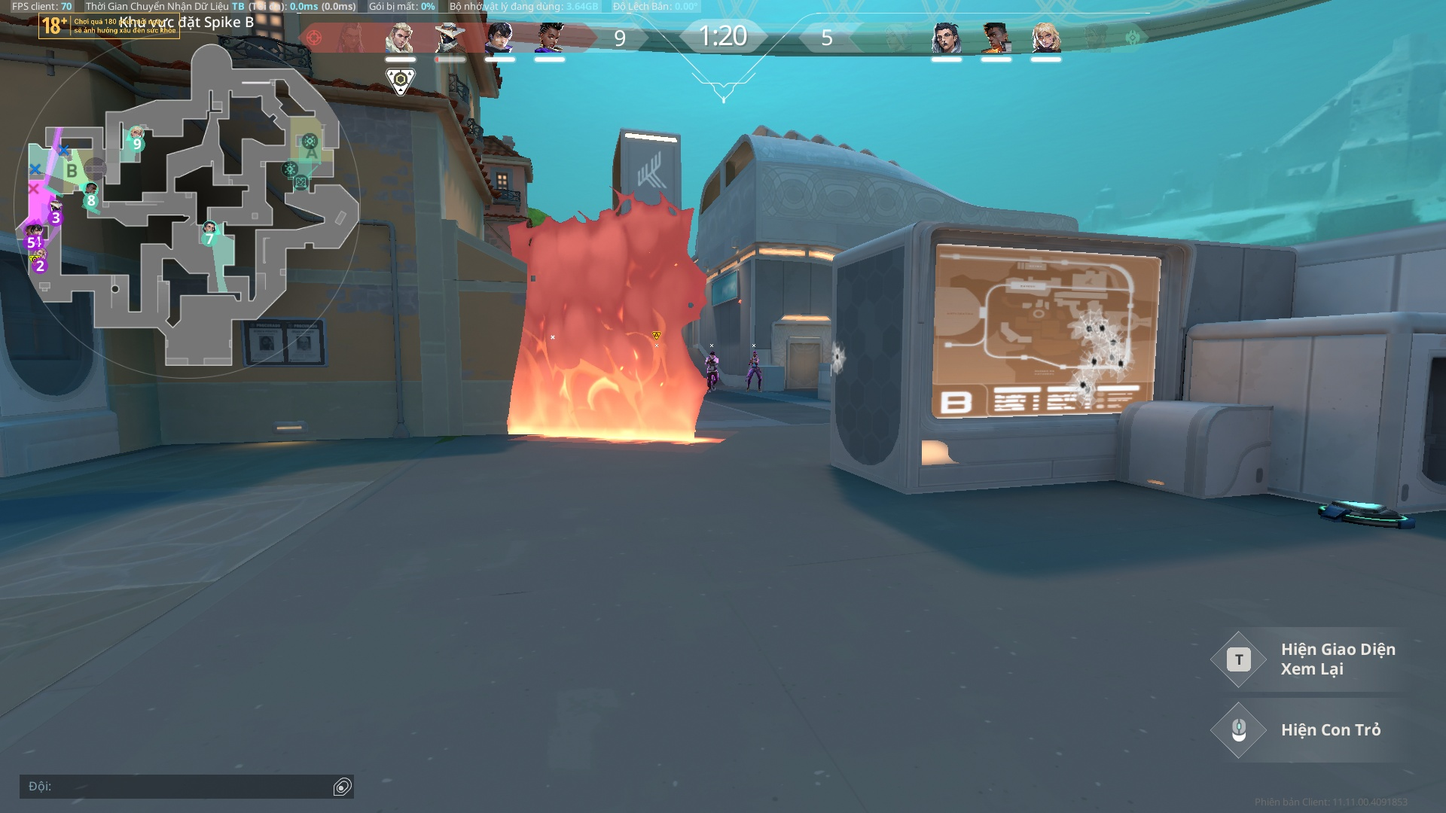body: (706, 355, 720, 370), (749, 356, 760, 367)
head: (708, 349, 715, 357), (752, 351, 758, 357)
